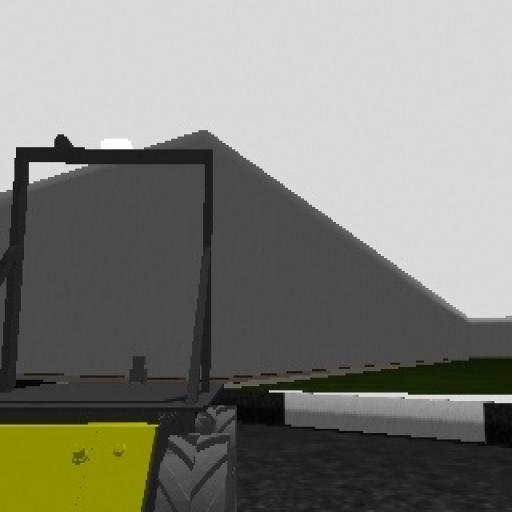huskya200: (0, 84, 241, 512)
